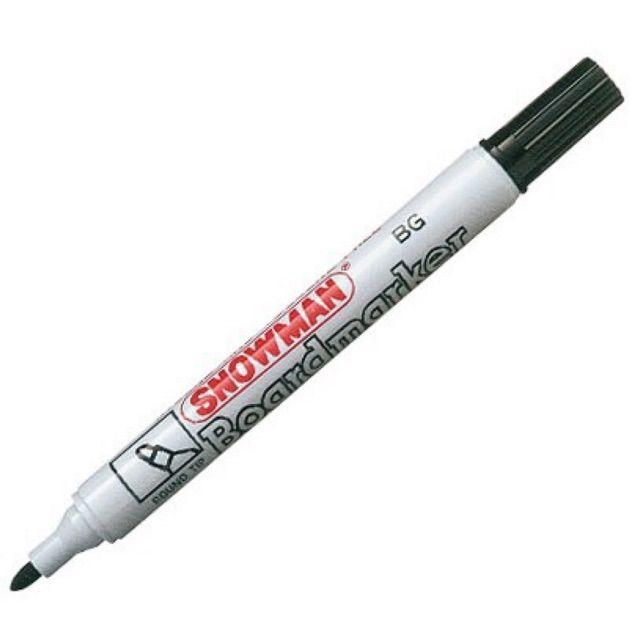zat_kimia: (12, 60, 621, 589)
